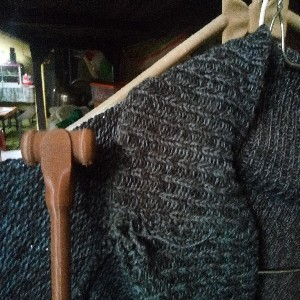palu: (19, 126, 96, 300)
